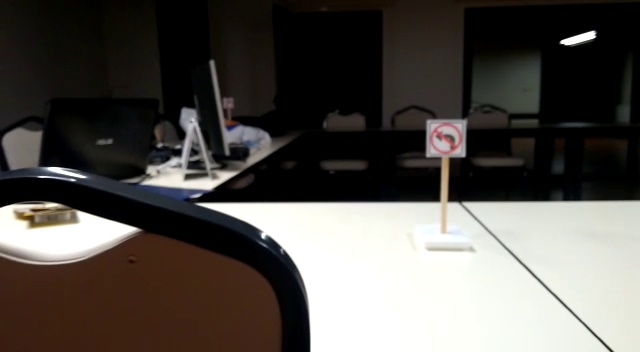sola_donulmez: (427, 118, 467, 156)
